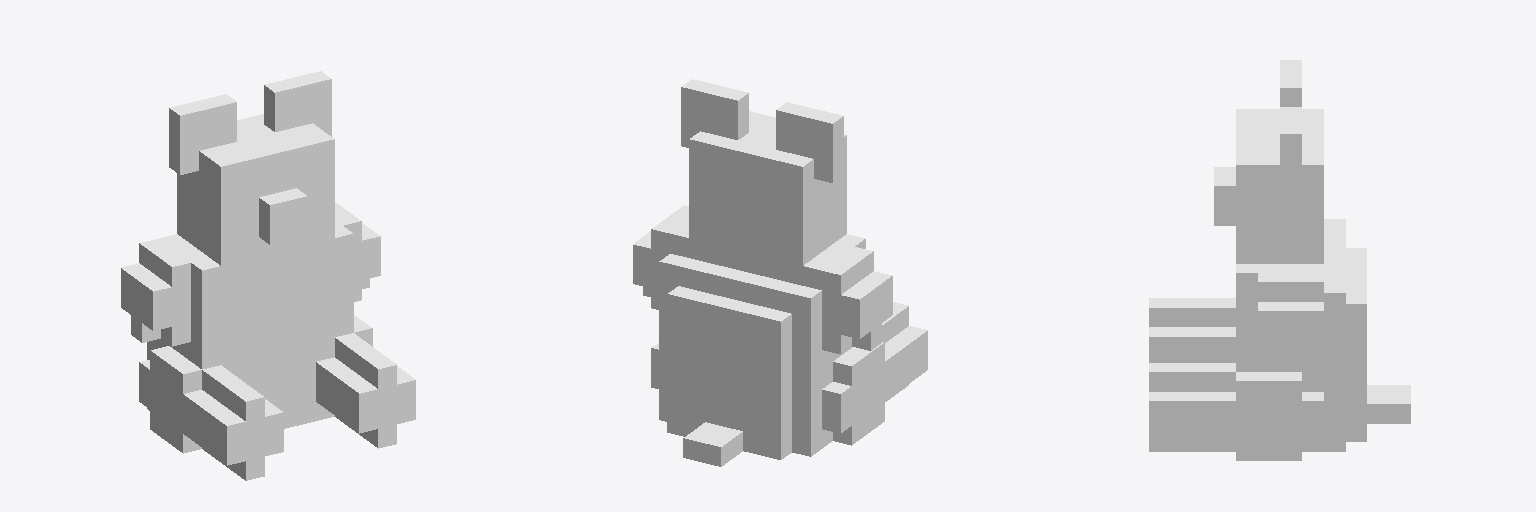
The picture shows the model from 3 angles: view 1: azimuth 30°, elevation 25°; view 2: azimuth 150°, elevation 25°; view 3: azimuth 270°, elevation 25°; orthographic projection.
Visible parts, largest first — view 1: LD-4; view 2: LD-4; view 3: LD-4.
Boxes of the visible parts, x1,y1,x2,y2 form: LD-4: [121, 71, 415, 480]; LD-4: [633, 79, 927, 466]; LD-4: [1149, 60, 1410, 460].
Bounding box in the file's own units: 12 × 16 × 12.